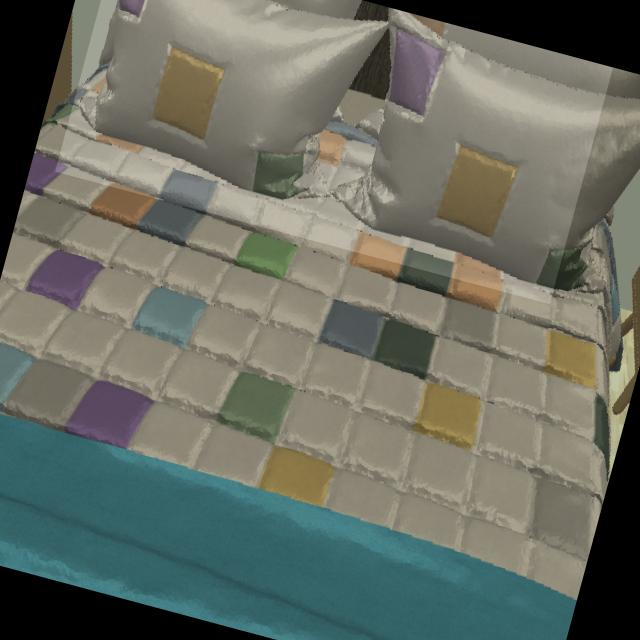bed: (0, 0, 640, 640)
pillow: (76, 0, 612, 289)
